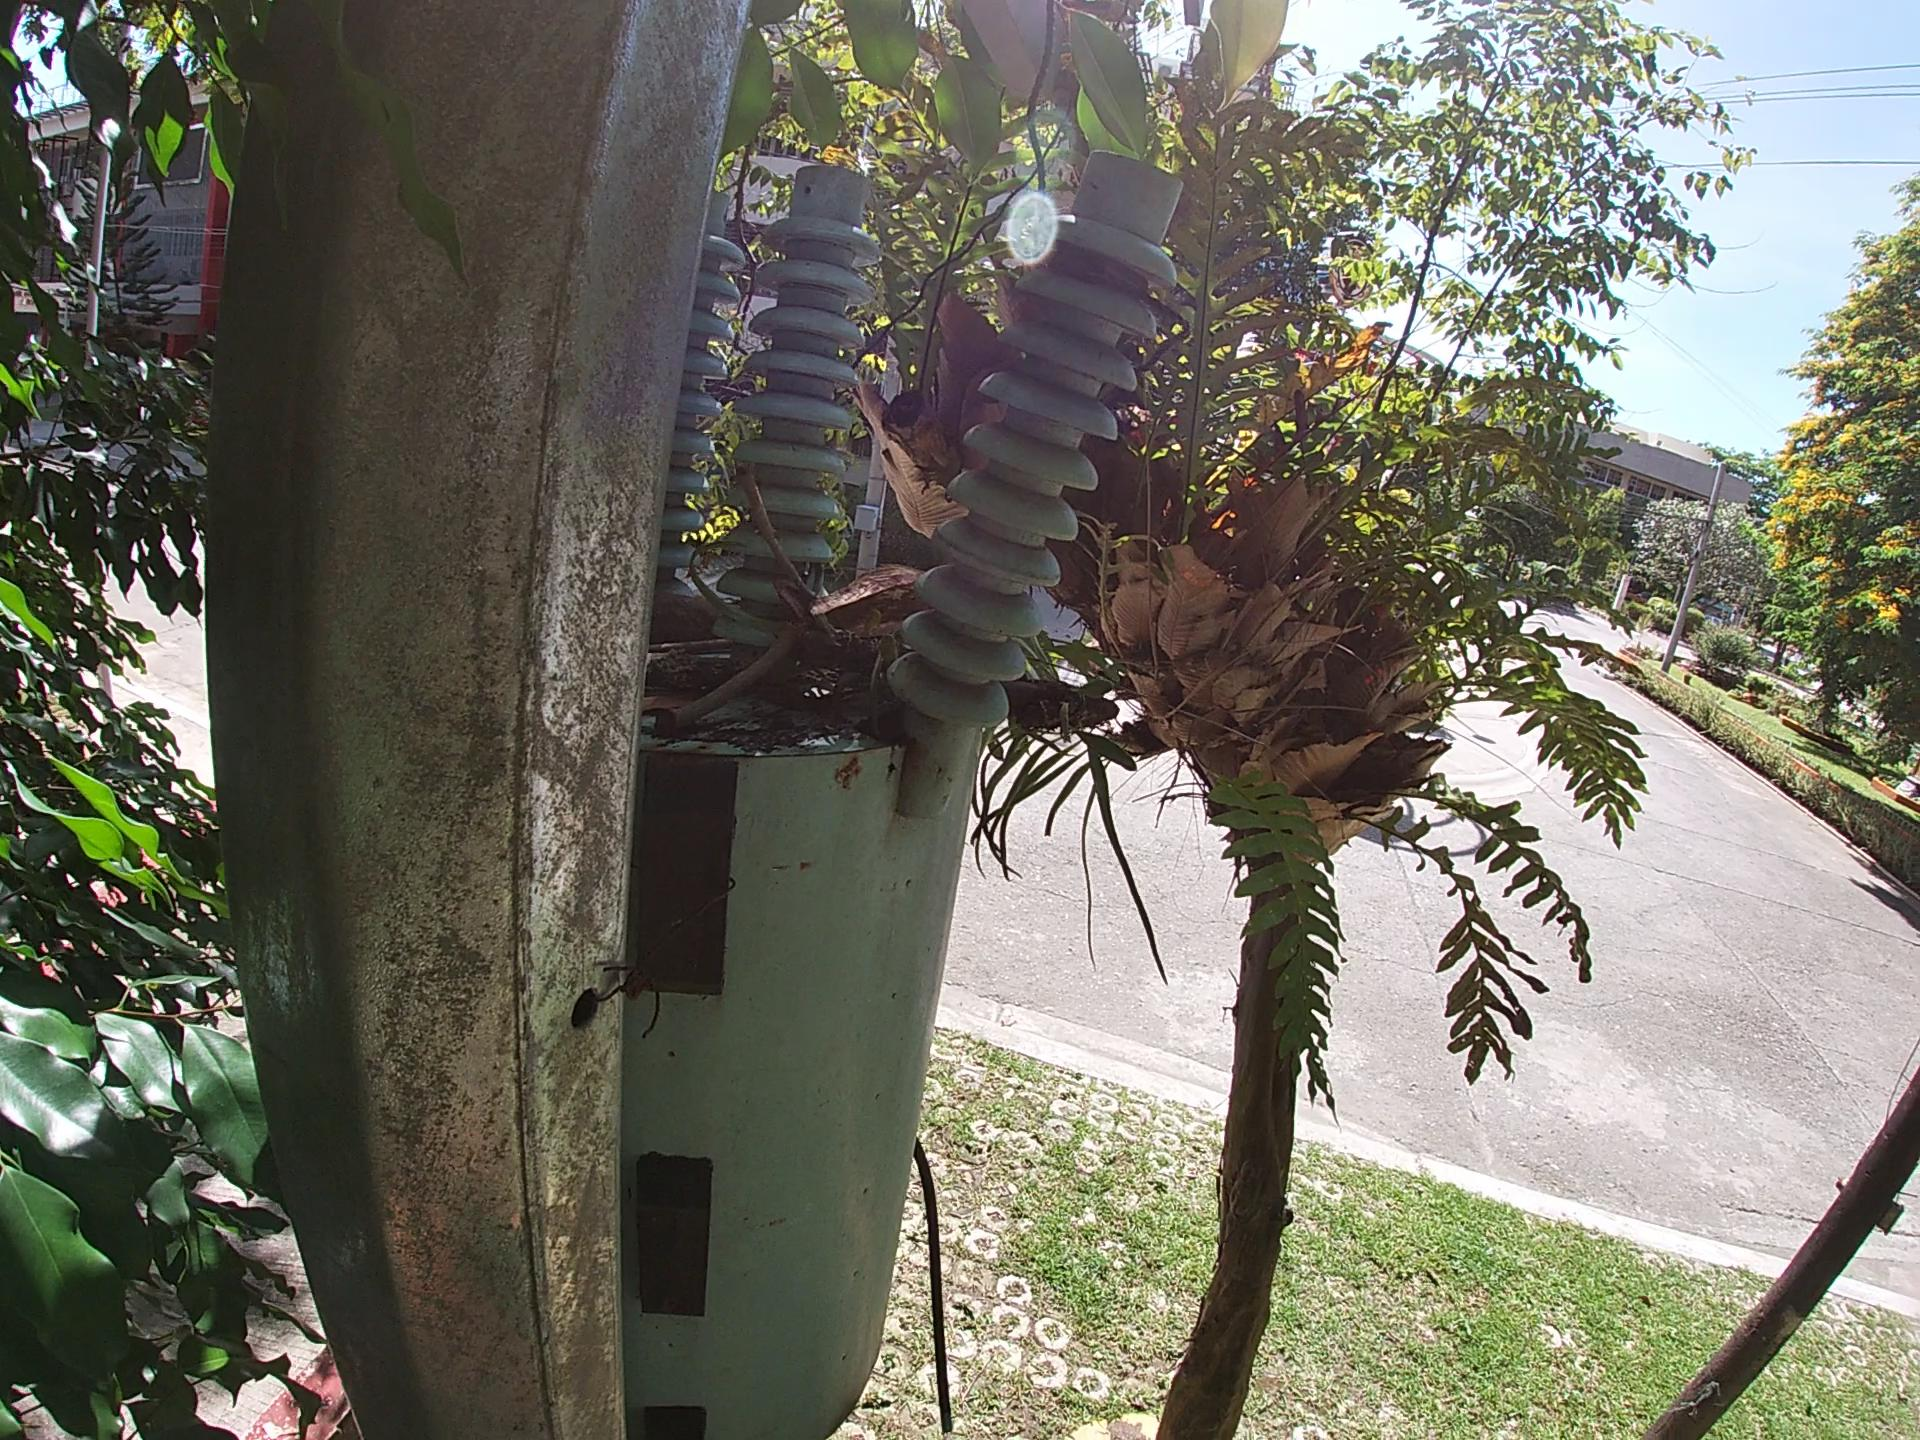branch with leaves: (559, 617, 692, 800)
leaf: (685, 461, 1085, 817)
mahogany fruit: (688, 469, 865, 625)
tree branch: (627, 585, 813, 764)
